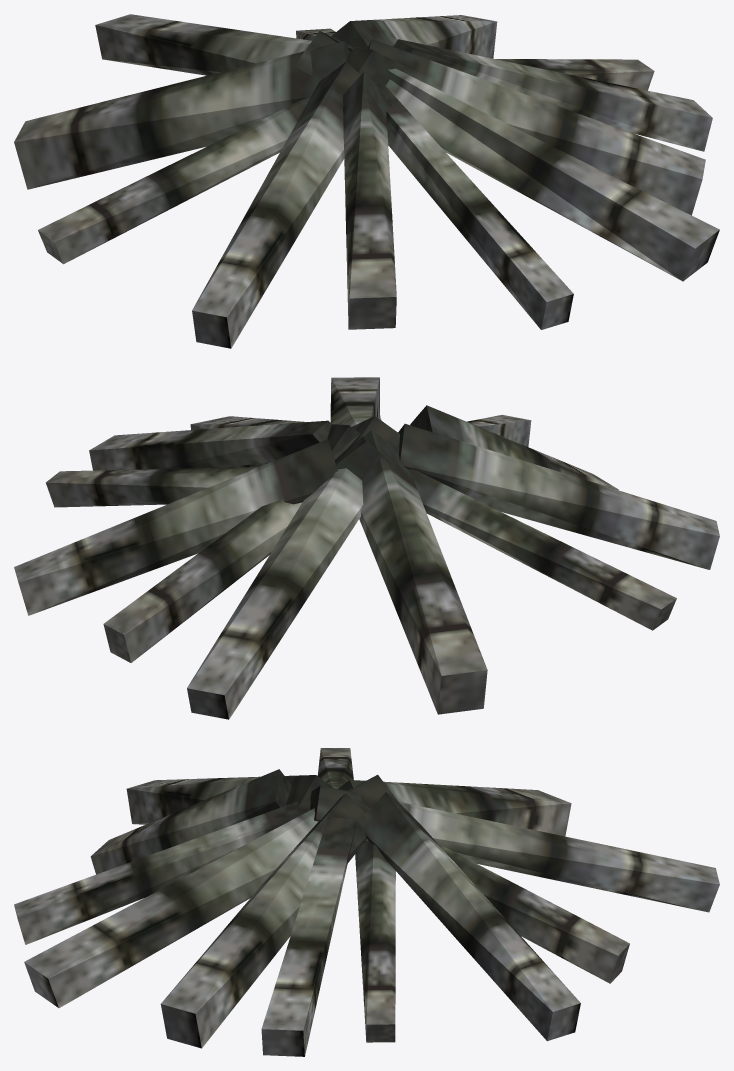
File: campfire.glb
3 renders of one model, top to bottom at view 1: azimuth 30°, elevation 25°; view 2: azimuth 150°, elevation 25°; view 3: azimuth 270°, elevation 25°, orthographic. The views are drawn at different scales.
Parts seen in each view (by area): view 1: Object08.001; view 2: Object08.001; view 3: Object08.001.
Boxes of the visible parts, left/top/right/bottom form: Object08.001: left=14, top=14, right=719, bottom=348; Object08.001: left=14, top=377, right=719, bottom=719; Object08.001: left=14, top=748, right=719, bottom=1056.
Bounding box in the file's own units: 104 × 27 × 112.
1 material, 1 textured.
